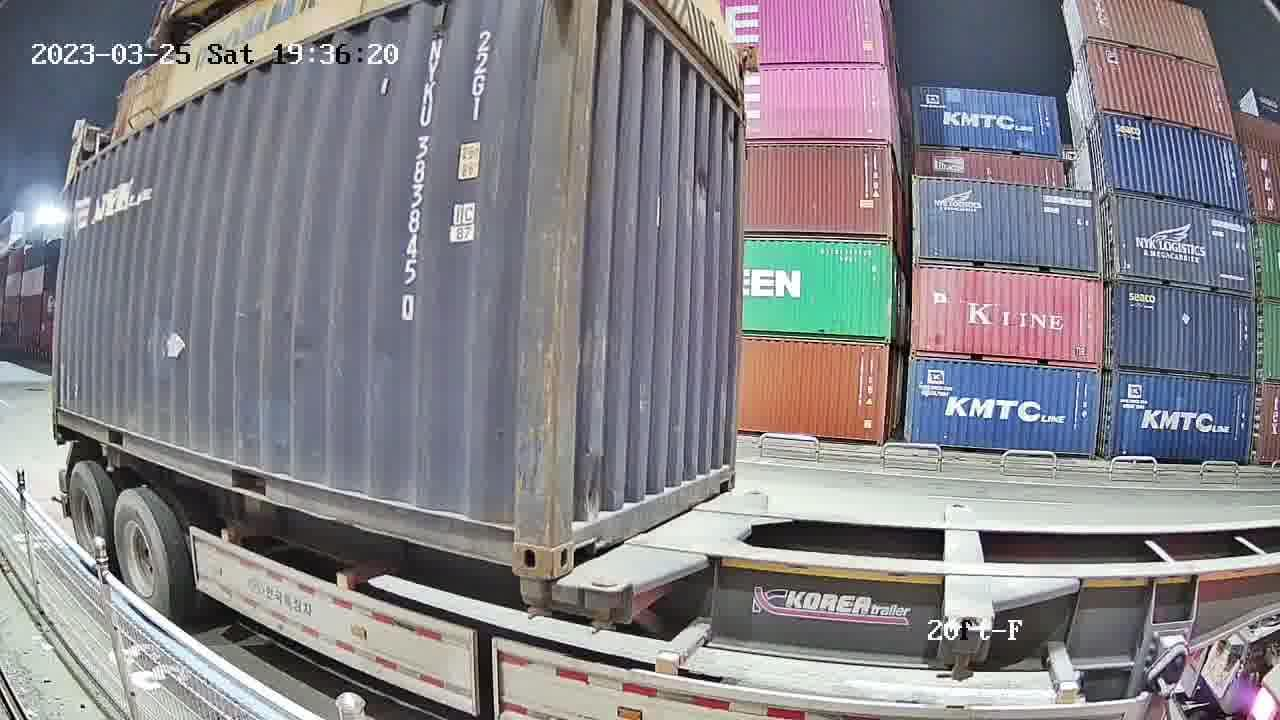Chassis: (583, 492, 765, 588)
Cone: (588, 575, 627, 636), (517, 576, 549, 620)
Hole_L: (552, 504, 595, 581)
Hole_R: (483, 501, 552, 581), (710, 452, 736, 497)
Tire: (115, 491, 170, 616), (68, 463, 109, 571)
